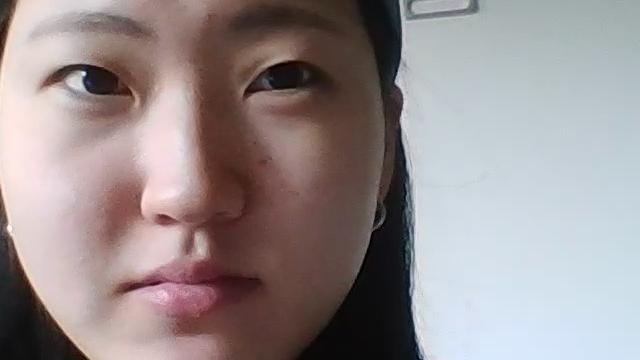eye: (268, 58, 304, 89), (85, 66, 117, 94)
iris: (247, 59, 316, 91), (60, 67, 131, 96)
